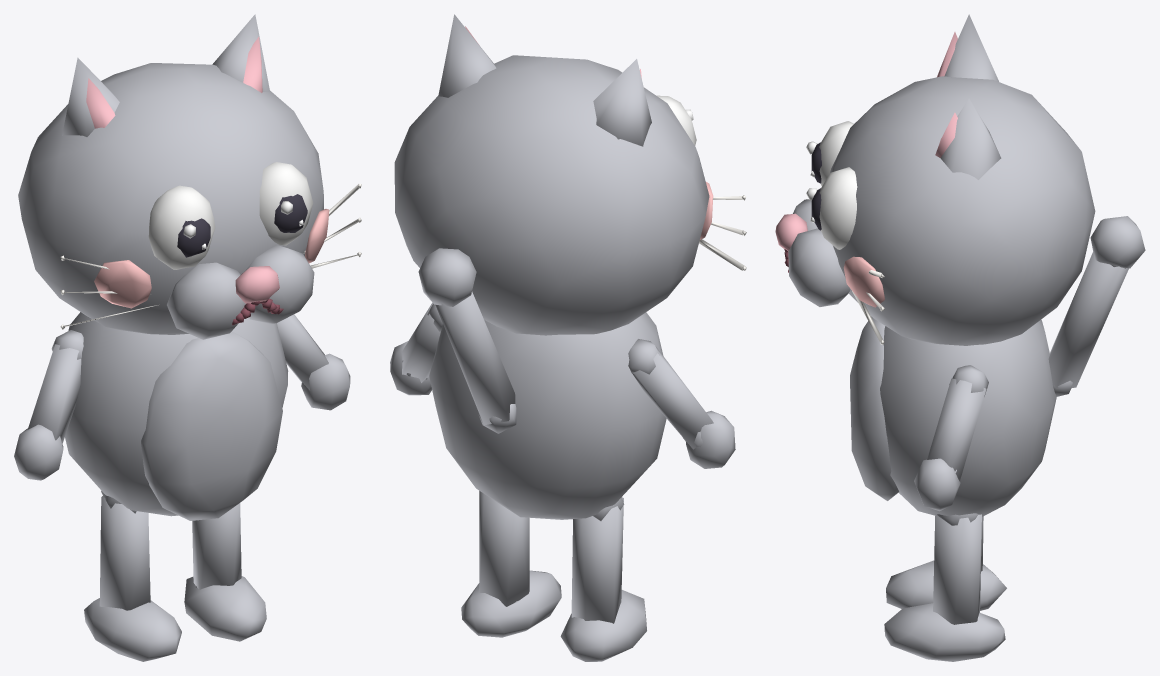
The model's file is Cat.fbx.
3 views of the same model, side by side, from view 1: azimuth 30°, elevation 25°; view 2: azimuth 150°, elevation 25°; view 3: azimuth 270°, elevation 25° (orthographic). The views are drawn at different scales.
Parts seen in each view (by area): view 1: EX_Cat; view 2: EX_Cat; view 3: EX_Cat.
Boxes of the visible parts, <box> form: EX_Cat: <box>14,14,361,661</box>; EX_Cat: <box>390,14,746,661</box>; EX_Cat: <box>775,14,1145,661</box>.
Bounding box in the file's own units: 130 × 221 × 128.
